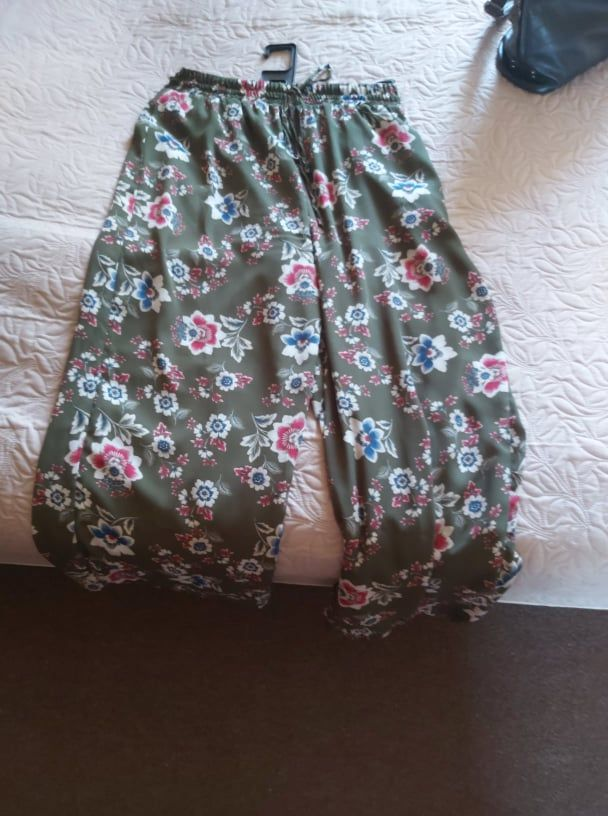clothes: (39, 68, 522, 629)
